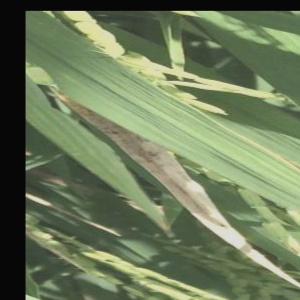Leaf_Blast: (182, 181, 235, 231)
